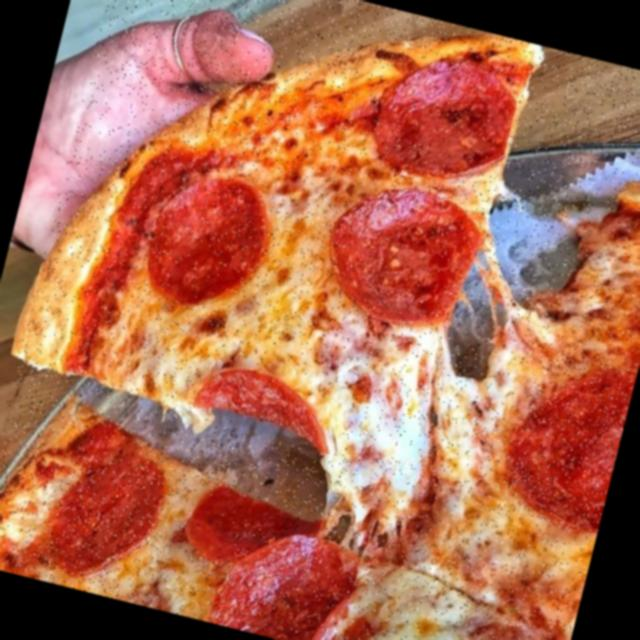Pepperoni: (317, 175, 488, 335), (498, 345, 638, 533), (350, 38, 524, 178), (134, 164, 282, 318), (40, 446, 166, 594), (211, 520, 362, 640), (188, 354, 353, 456), (182, 486, 328, 580)
Pizza: (0, 0, 640, 640)
